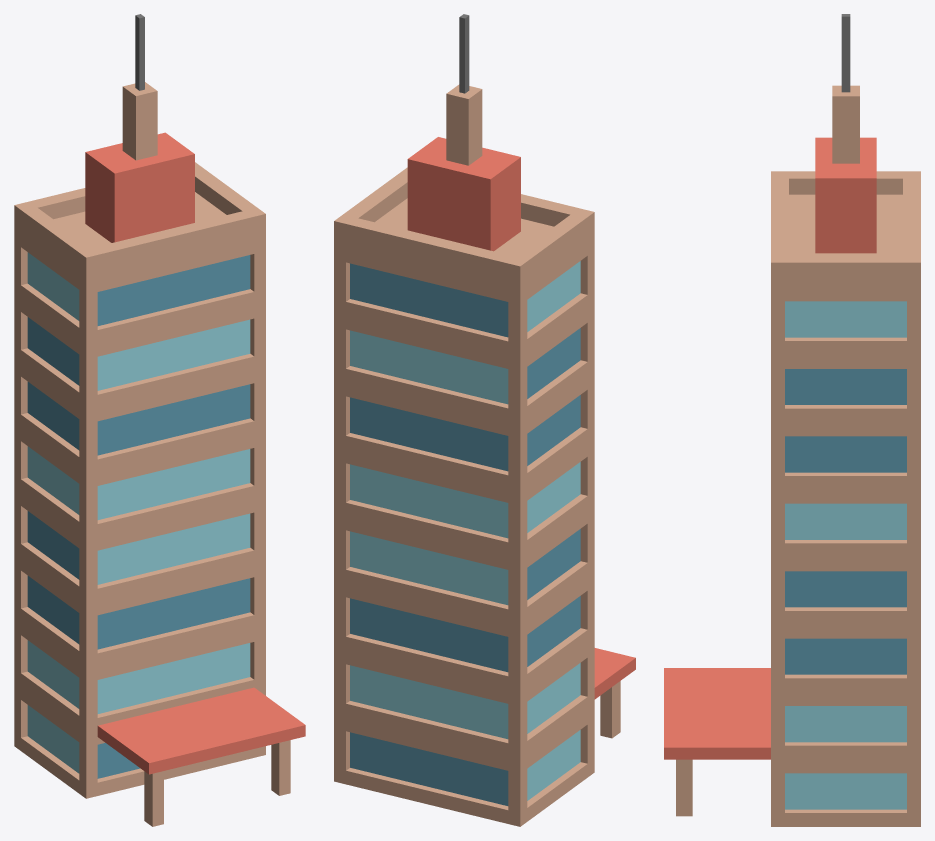
Rendered from BigHouse 2.2.fbx.
3 views of the same model, side by side, from view 1: azimuth 30°, elevation 25°; view 2: azimuth 150°, elevation 25°; view 3: azimuth 270°, elevation 25° (orthographic). The views are drawn at different scales.
Parts seen in each view (by area): view 1: BigHouse_Type2_2; view 2: BigHouse_Type2_2; view 3: BigHouse_Type2_2.
Part boxes in pixels (bbox=[...]): BigHouse_Type2_2: bbox=[14, 14, 305, 826]; BigHouse_Type2_2: bbox=[334, 14, 635, 826]; BigHouse_Type2_2: bbox=[664, 14, 920, 826].
Bounding box in the file's own units: 572 × 2233 × 679.
